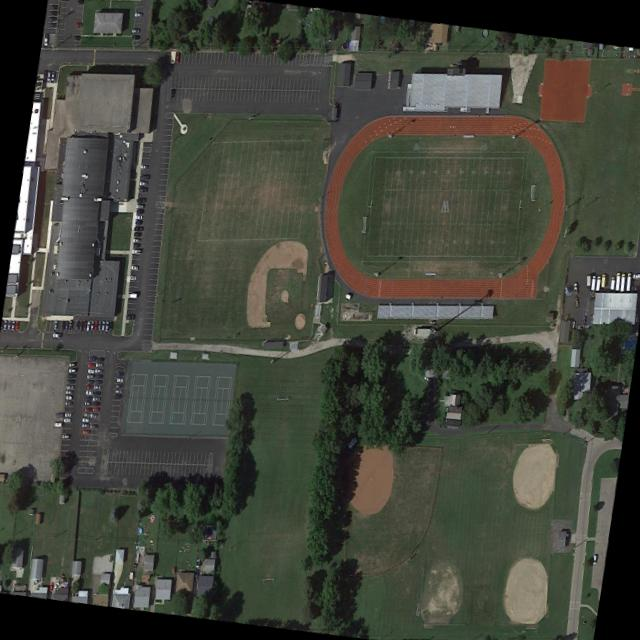small-vehicle: (614, 271, 620, 291), (619, 272, 625, 291), (625, 272, 631, 291), (599, 273, 606, 287), (594, 275, 600, 291), (609, 276, 615, 290), (590, 274, 595, 290), (32, 576, 40, 585), (51, 331, 61, 338), (52, 580, 59, 590), (131, 247, 140, 254), (572, 282, 577, 294), (88, 354, 96, 361), (591, 553, 596, 564), (2, 319, 7, 330), (137, 186, 146, 192), (54, 412, 63, 418), (133, 11, 142, 17), (124, 314, 134, 319), (93, 320, 98, 330), (6, 320, 11, 330), (74, 320, 79, 330), (14, 320, 19, 330), (94, 373, 102, 379), (132, 237, 140, 243), (632, 273, 640, 279), (84, 395, 92, 401), (136, 208, 144, 214), (63, 411, 71, 417), (127, 292, 136, 297), (133, 225, 142, 230), (134, 219, 143, 224), (113, 393, 122, 398), (52, 422, 61, 427), (66, 373, 75, 378), (43, 37, 48, 46), (108, 321, 113, 330), (104, 320, 108, 331), (85, 321, 89, 332), (175, 52, 179, 63), (129, 274, 136, 280), (130, 264, 137, 270), (86, 374, 94, 379), (93, 379, 101, 384), (91, 401, 99, 406), (87, 362, 95, 367), (132, 242, 140, 247), (134, 214, 142, 219), (89, 423, 97, 428), (137, 197, 145, 202), (65, 384, 73, 389), (64, 320, 68, 330), (53, 319, 57, 329), (64, 395, 72, 400), (61, 434, 69, 439), (49, 581, 53, 591), (10, 320, 14, 330), (138, 180, 146, 185), (140, 174, 148, 179), (170, 88, 174, 98), (131, 27, 139, 32), (131, 34, 139, 39), (50, 71, 54, 81), (46, 70, 50, 80), (78, 321, 82, 331), (60, 320, 64, 330), (100, 321, 104, 330), (97, 321, 101, 330), (68, 320, 72, 329), (86, 384, 93, 389), (89, 412, 96, 417), (115, 383, 122, 388), (114, 389, 121, 394), (81, 417, 88, 422), (84, 400, 91, 405), (63, 417, 70, 422), (67, 379, 74, 384), (96, 356, 103, 361), (140, 164, 147, 169), (50, 10, 57, 15), (49, 22, 56, 27), (90, 320, 93, 331), (43, 69, 46, 80), (84, 390, 92, 394), (92, 391, 100, 395), (91, 396, 99, 400), (94, 368, 102, 372), (133, 232, 141, 236), (83, 407, 91, 411), (82, 321, 86, 329), (116, 377, 122, 382), (632, 285, 638, 290), (634, 312, 637, 322), (68, 362, 74, 367), (51, 4, 57, 9), (49, 16, 55, 21), (93, 385, 100, 389), (91, 407, 98, 411), (87, 368, 94, 372), (95, 362, 102, 366), (81, 423, 88, 427), (82, 412, 89, 416), (68, 368, 75, 372), (65, 390, 72, 394), (64, 401, 71, 405), (74, 22, 81, 26), (73, 35, 80, 39), (136, 203, 142, 207), (117, 371, 123, 375), (82, 429, 88, 433), (86, 380, 93, 383), (76, 0, 83, 3)
